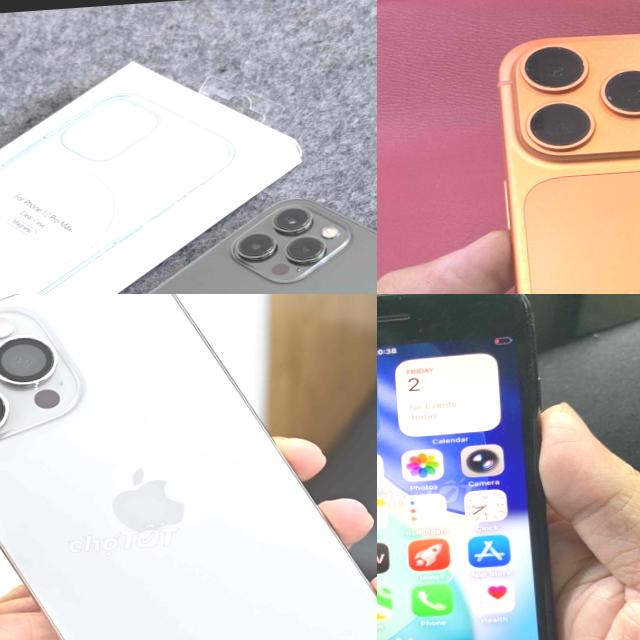gen_12_13: (0, 183, 377, 294)
gen_16: (0, 294, 377, 640)
gen_17: (477, 7, 640, 294)
gen_7_8: (377, 294, 579, 640)
